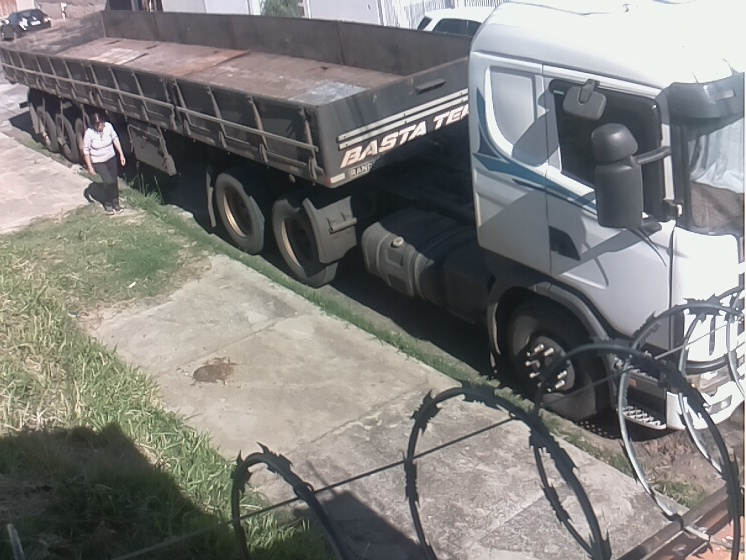person: (81, 111, 127, 219)
